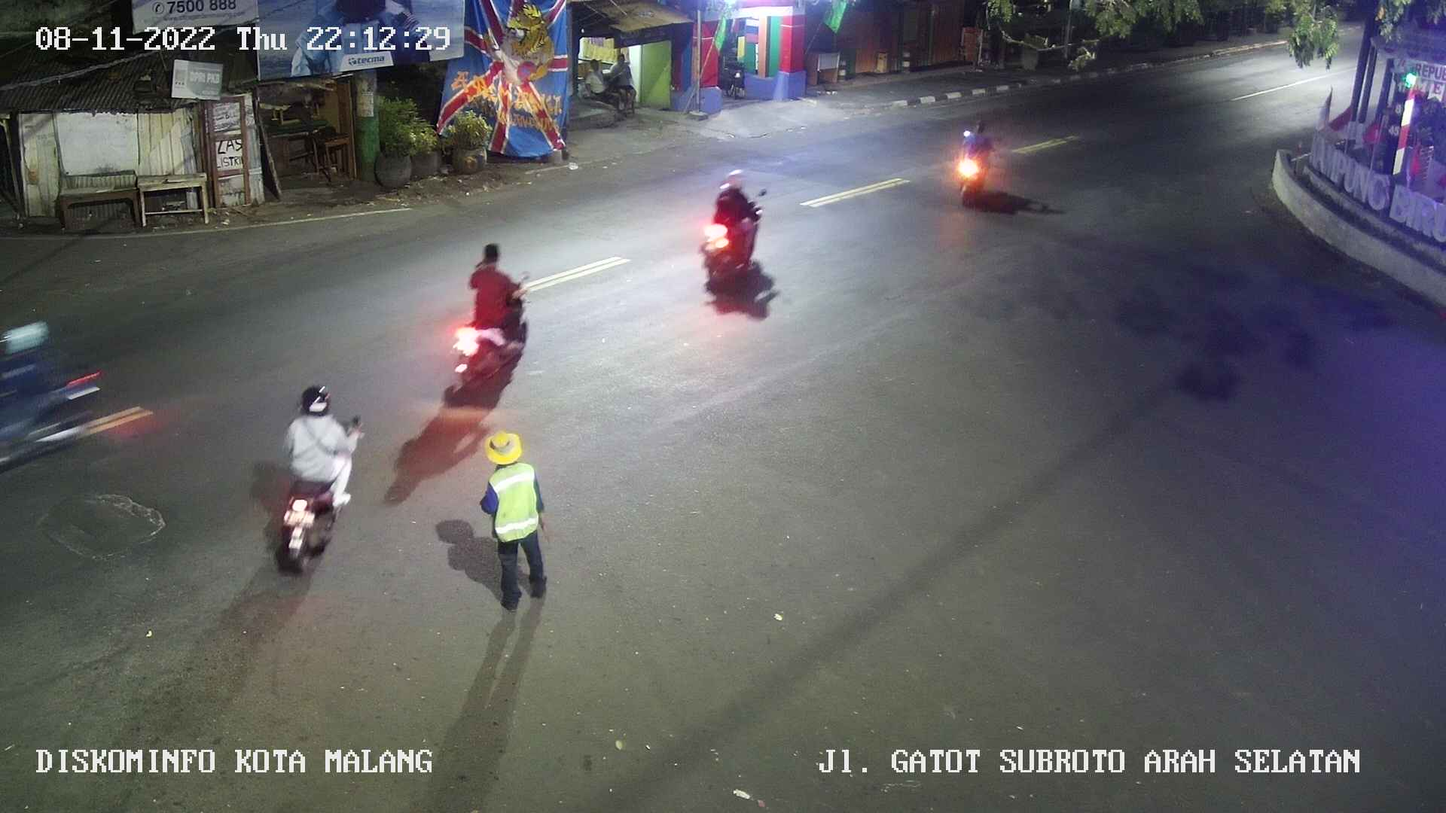with_helmet: (241, 352, 361, 589), (676, 149, 790, 294)
without_helmet: (422, 226, 561, 403), (934, 106, 1009, 213)
